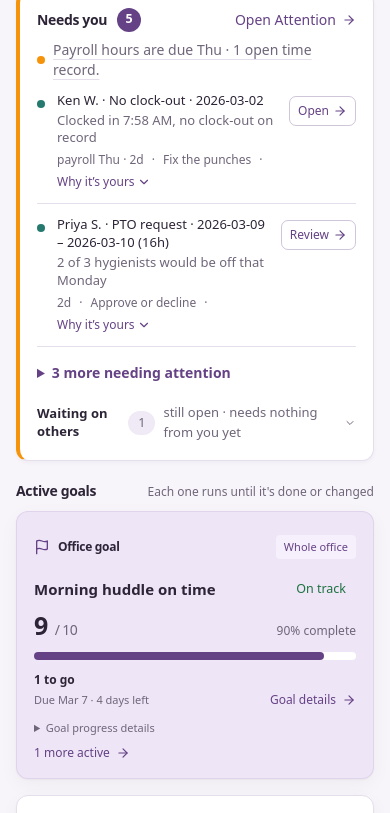
it: needs you › the count is the unique items that need the manager now, and what waits on others is apart
The width and height of the screenshot is (390, 813).
(page scrolled)
Expected: the text "5" is shown, x1=117 y1=8 x2=141 y2=32
Expected: the text "Dana R. · Checklist bypass reason owed · 2026-02-27" is not shown
Click the button "Waiting on others 1 still open · needs nothing from you yet" at {"x": 196, "y": 423}, box x1=37 y1=403 x2=356 y2=443
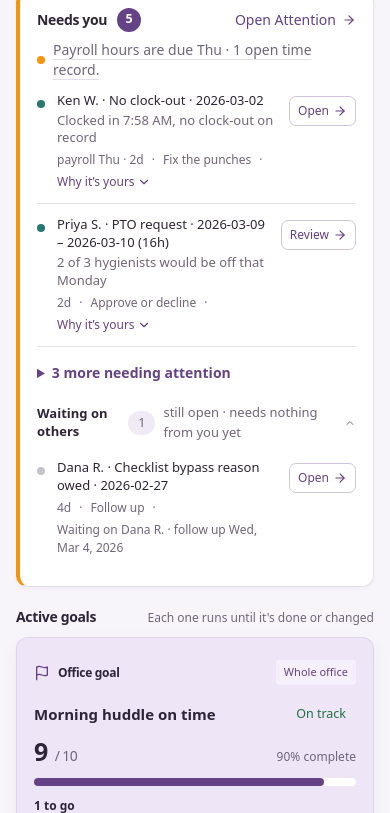
Now the text "Dana R. · Checklist bypass reason owed · 2026-02-27" is shown, box x1=57 y1=459 x2=277 y2=495
Now the text "Waiting on Dana R. · follow up Wed, Mar 4, 2026" is shown, box x1=57 y1=521 x2=277 y2=557
